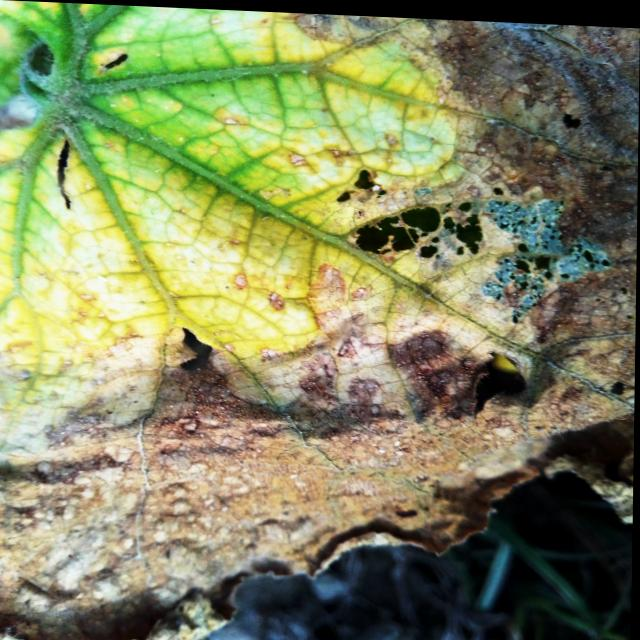Anthracnose: (334, 169, 616, 329), (463, 346, 534, 421), (170, 321, 223, 392)
